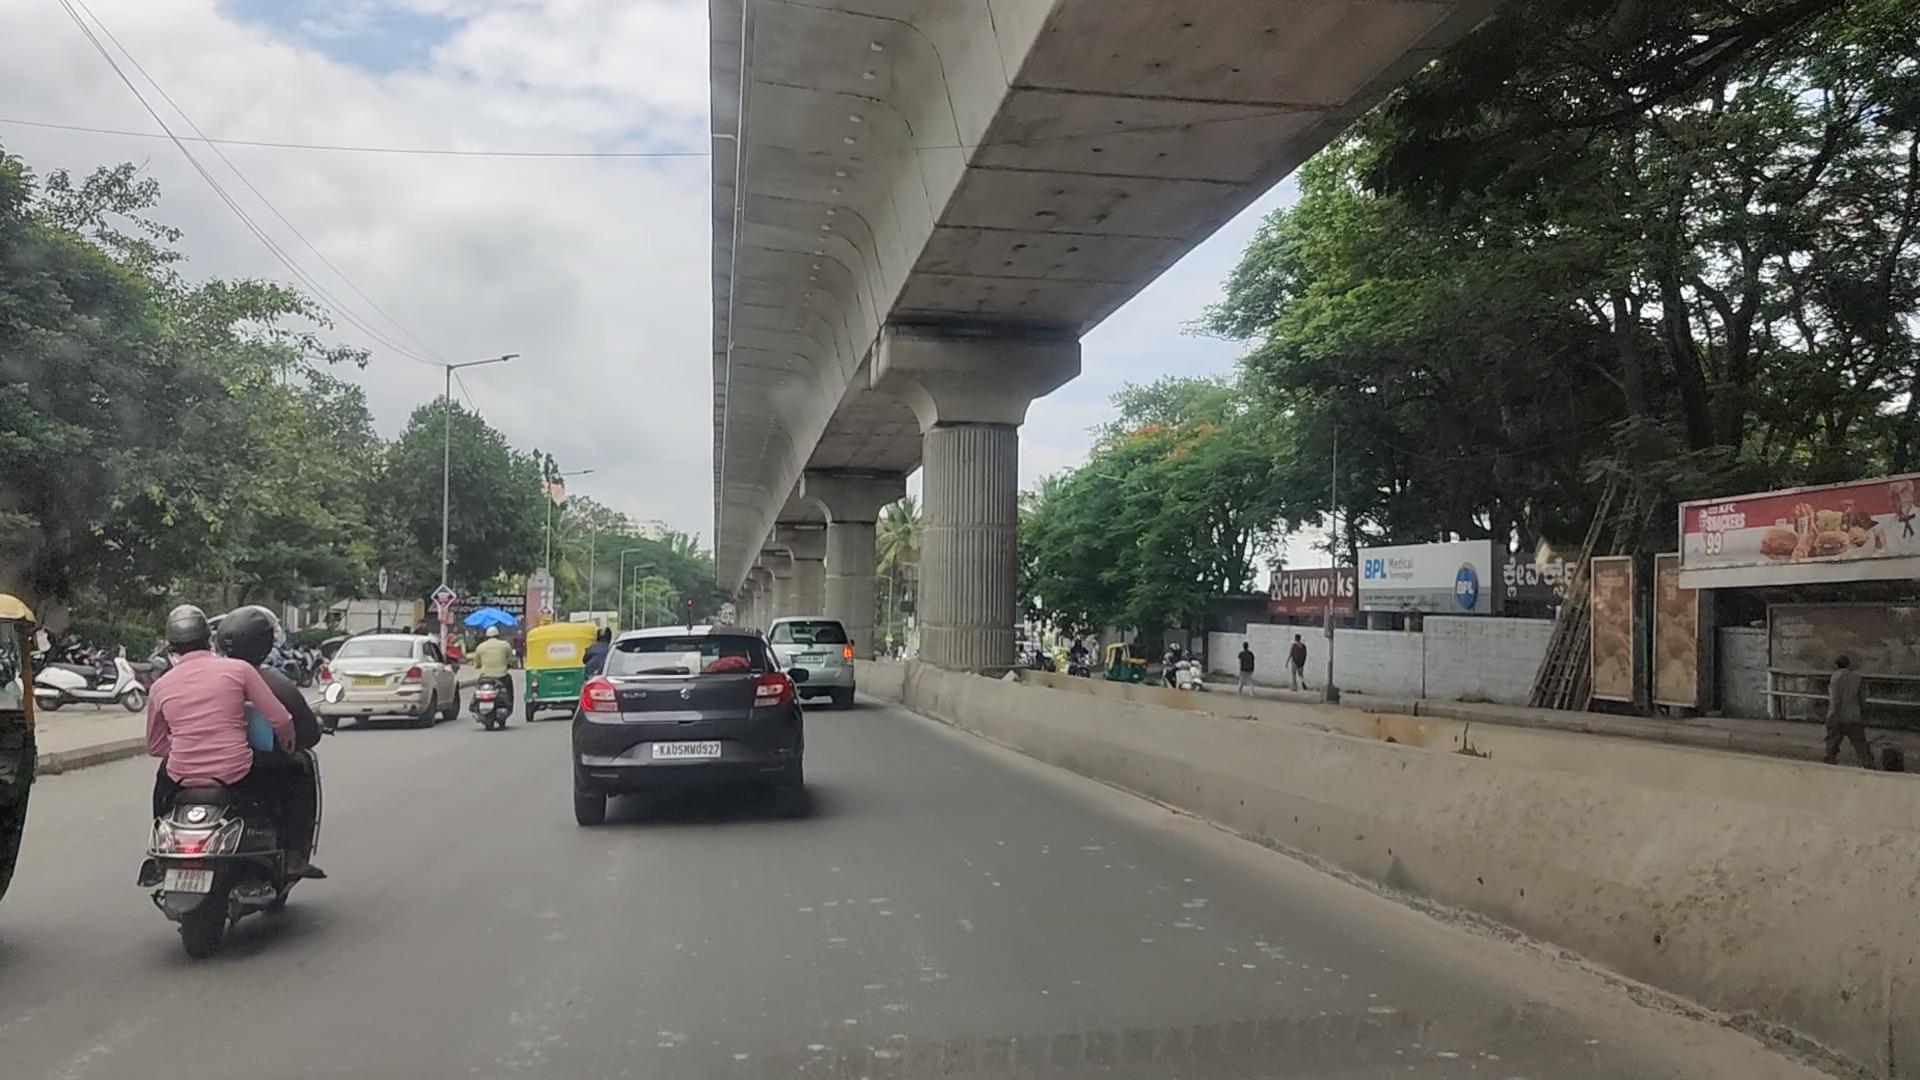LMV: (148, 583, 307, 982), (559, 611, 799, 841), (475, 622, 518, 727)
